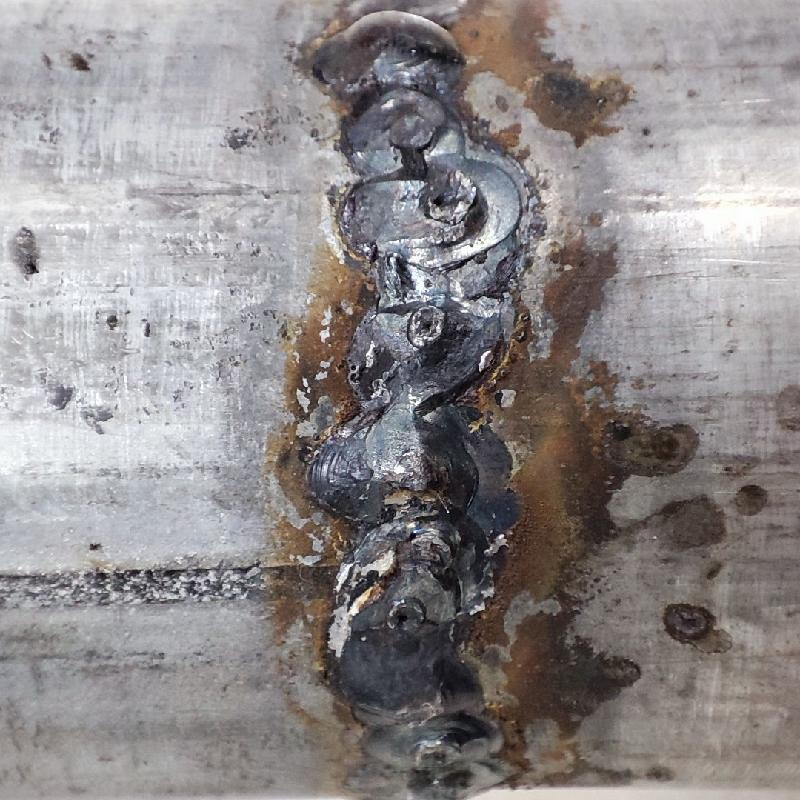Surface_pores: (418, 175, 472, 220), (398, 308, 455, 342), (383, 599, 428, 634)
Weld: (302, 8, 467, 87)
wrong_size: (328, 90, 514, 790)
